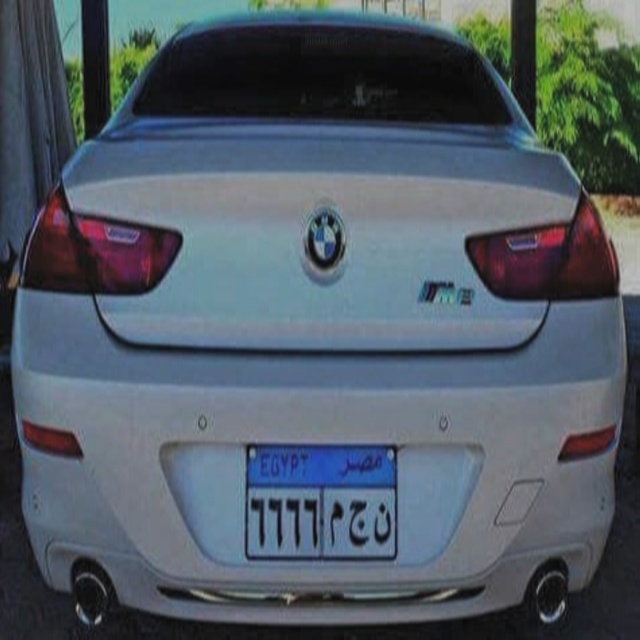License Plate: (243, 437, 402, 573)
